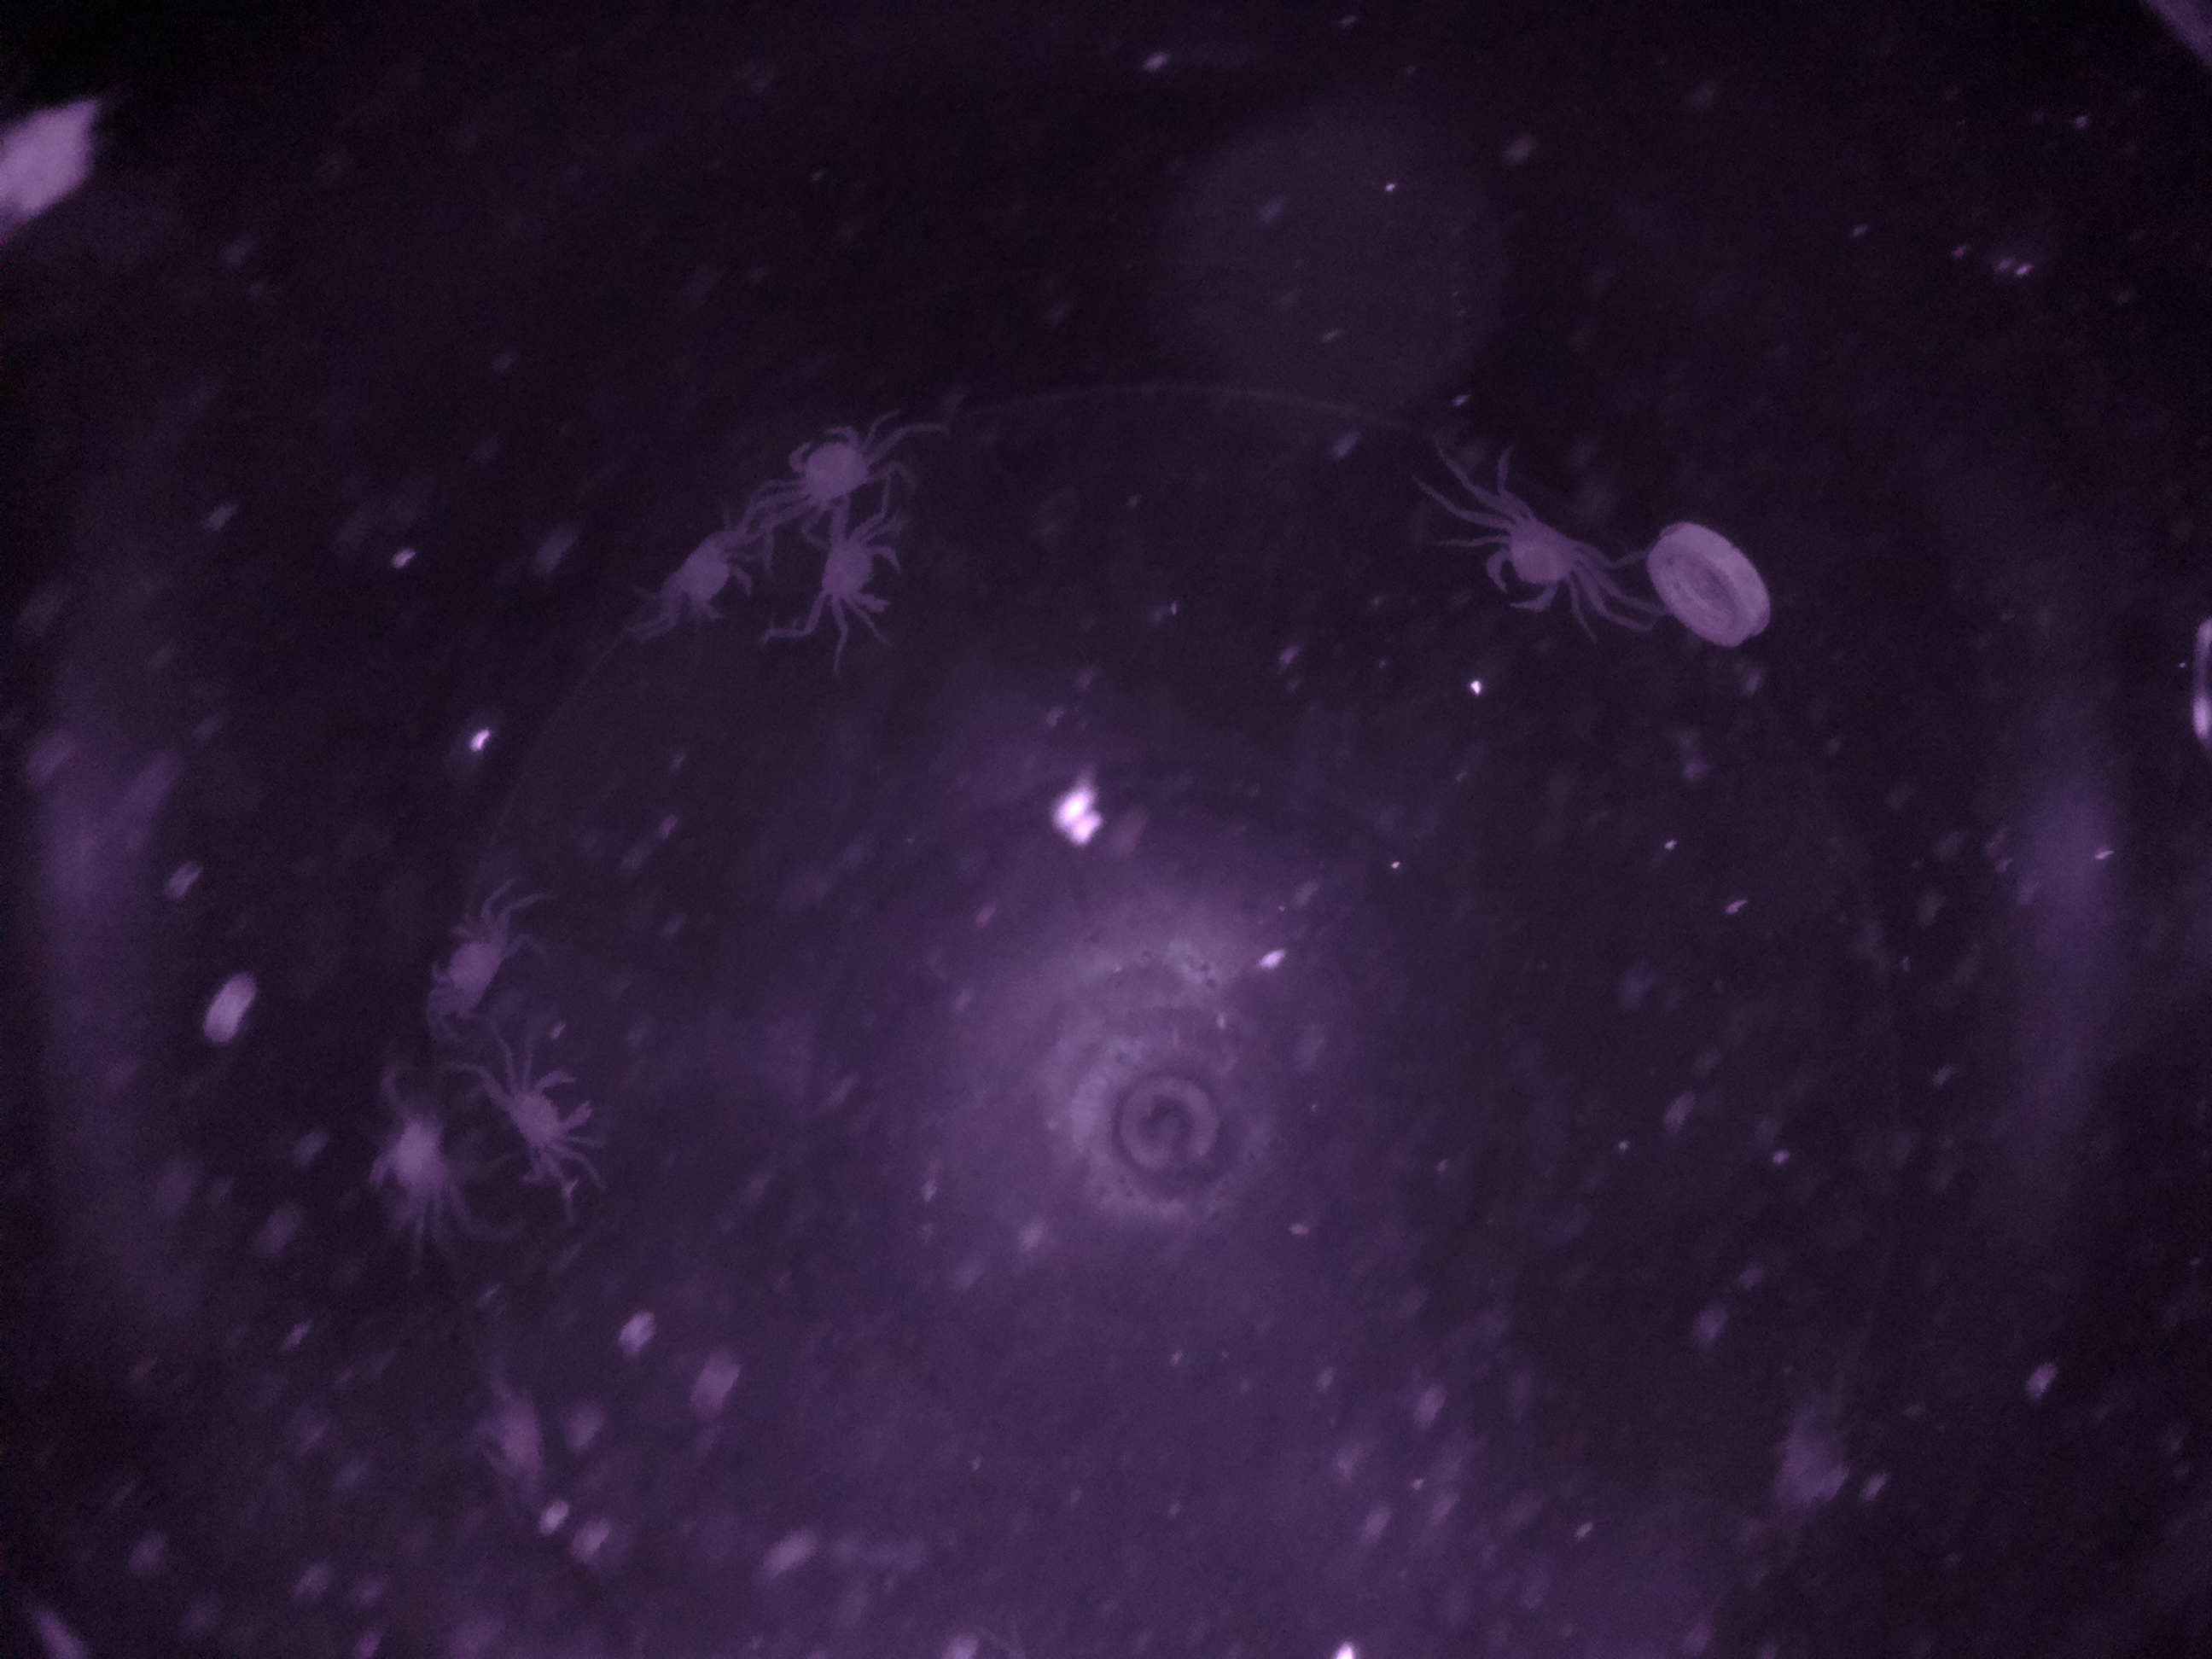Crab: (1460, 474, 1608, 626), (394, 892, 535, 1037), (787, 507, 937, 626), (470, 1054, 622, 1168), (643, 505, 765, 638), (765, 408, 902, 521)
